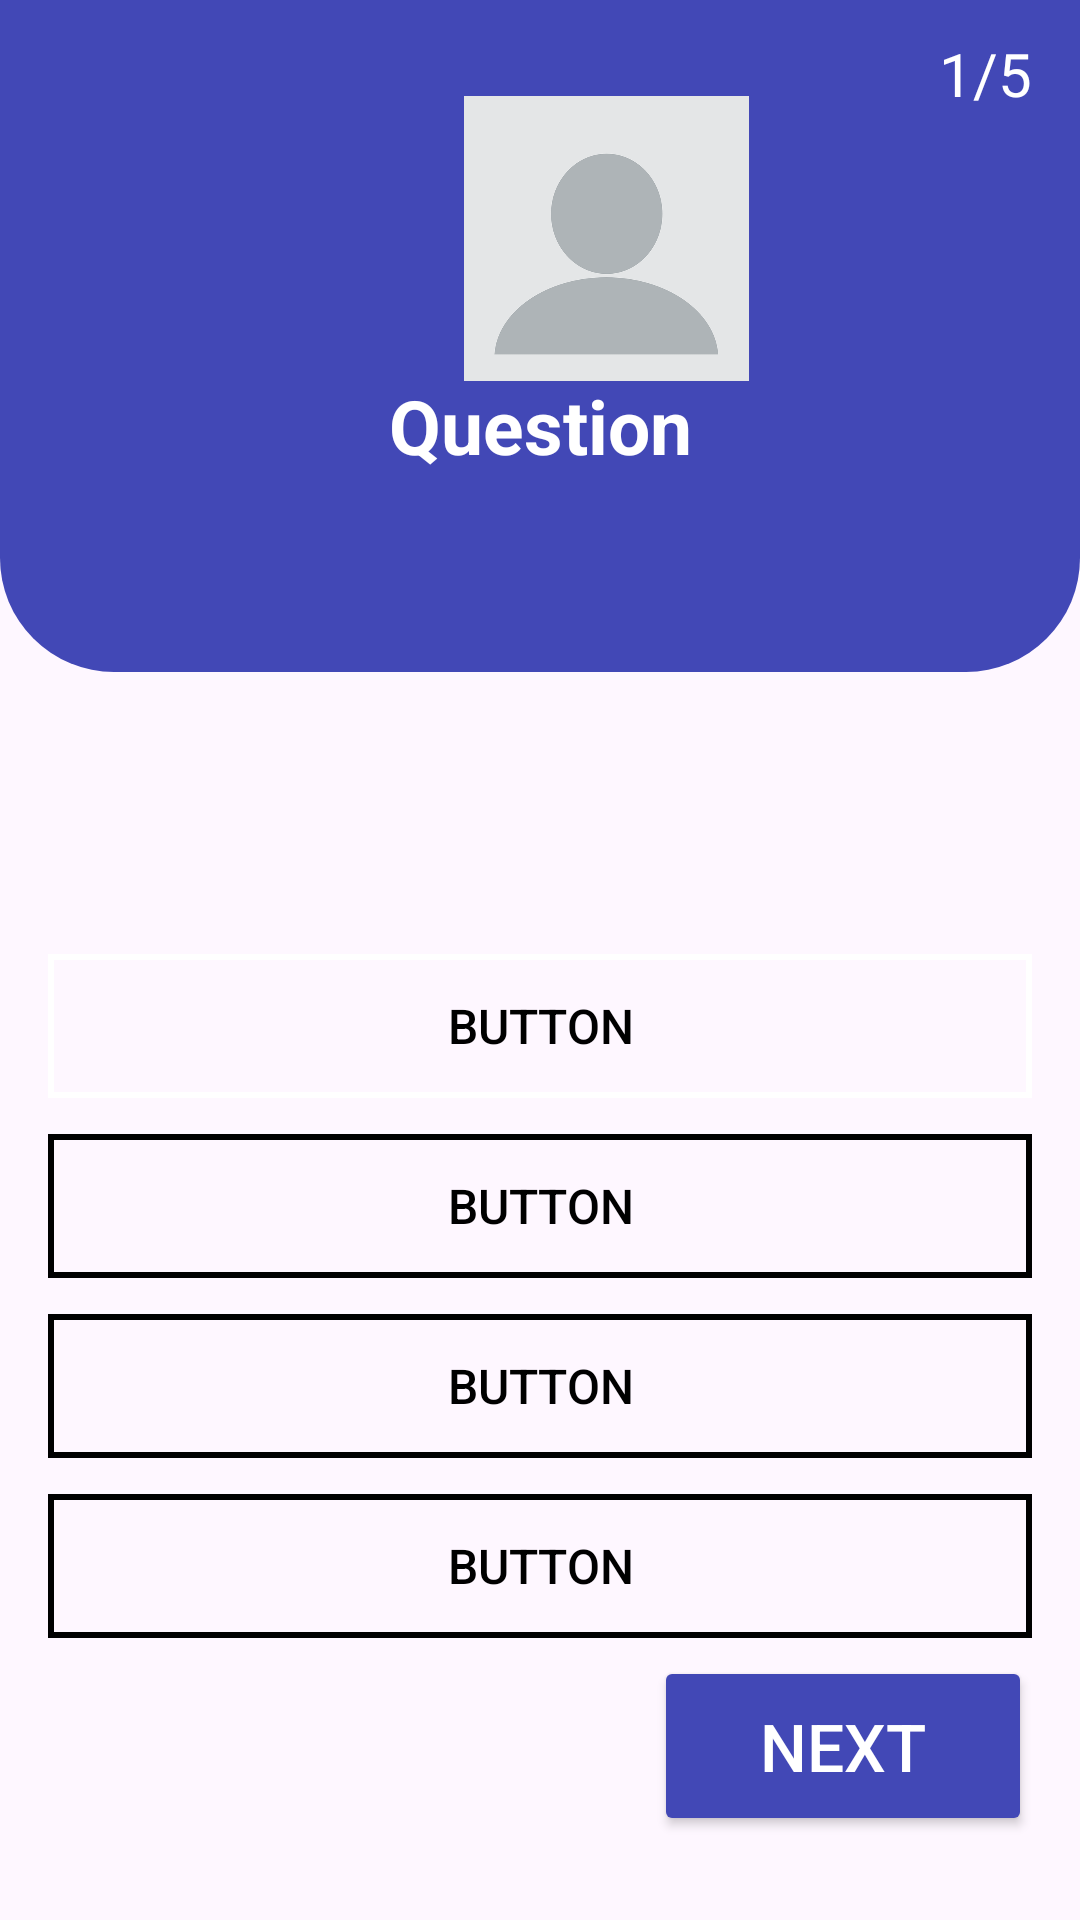

Screen size 1080 × 1920. Icon name, then its box in pixels as box=[x1, y1, x2, y2]:
blank profile: box=[464, 96, 749, 381]
